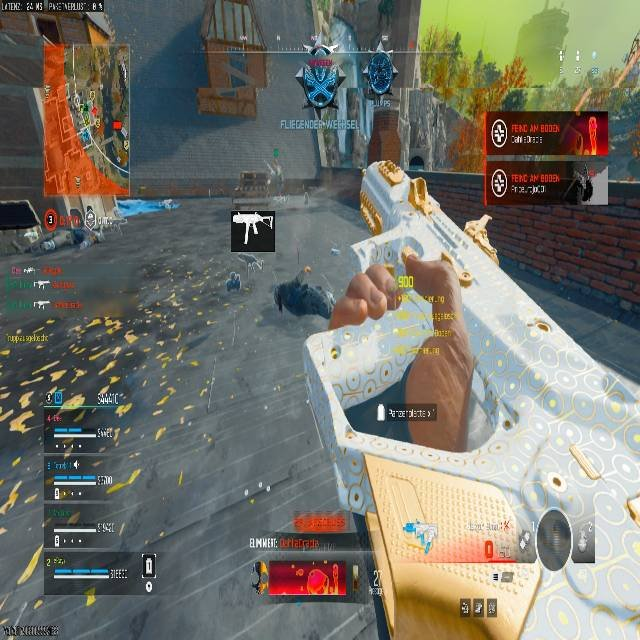head: (86, 234, 99, 248)
player: (289, 157, 479, 618), (298, 39, 341, 118)
